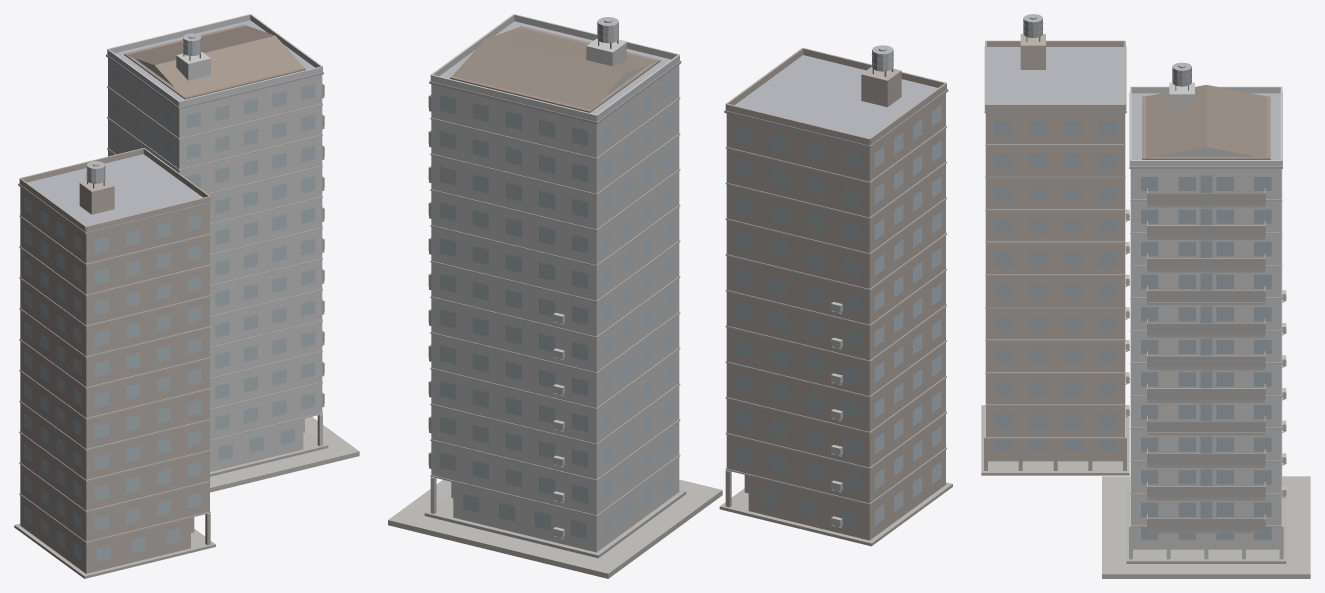
File: 09_residential_high-05.glb
3 renders of one model, left to right at view 1: azimuth 30°, elevation 25°; view 2: azimuth 150°, elevation 25°; view 3: azimuth 270°, elevation 25°, orthographic. The views are drawn at different scales.
Size of the model in its own units: 34.9 by 42.52 by 28.4.
